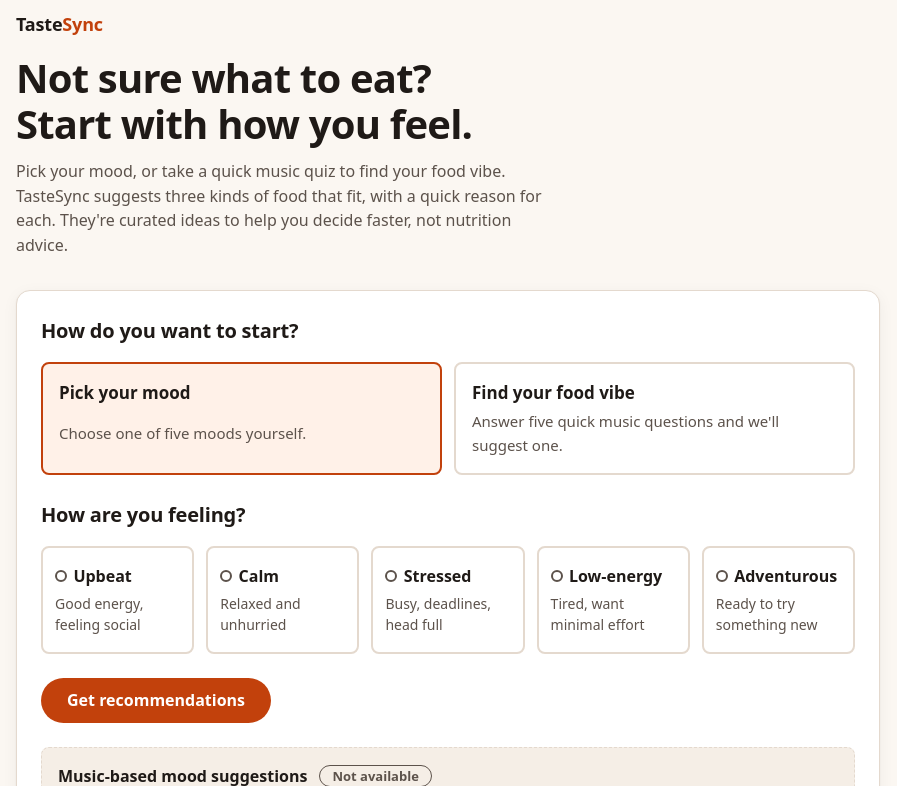
Test: Google restaurant search › handles location error code 1 and keeps city search working
Click the radio button labelled "Calm".
click(283, 600)  # box [206,546,359,654]
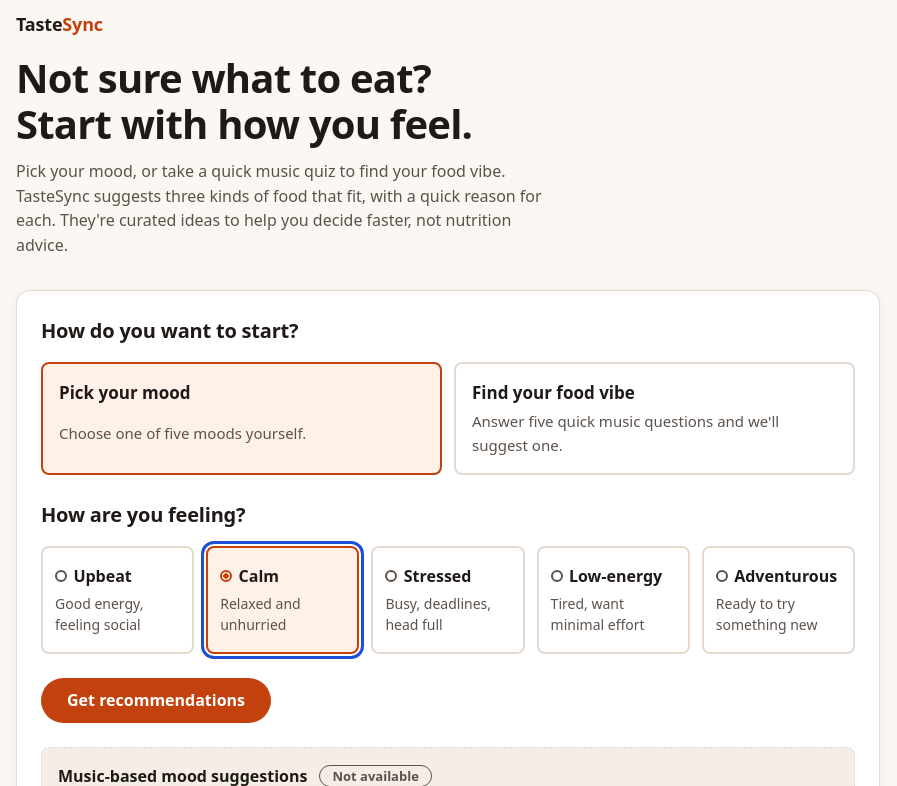
Click the button "Get recommendations".
click(156, 700)  # box [41,678,271,723]
(page scrolled)
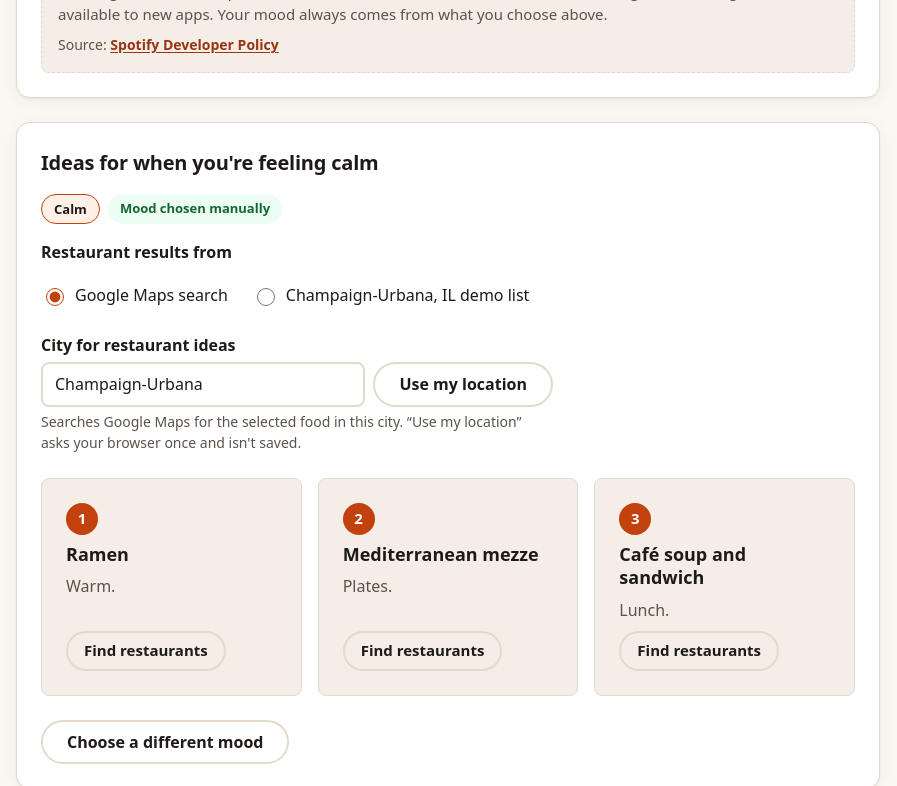
expect the heading "Ideas for when you're feeling calm" is shown: met, box [41,149,378,176]
Click the button "Use my location".
click(463, 384)  # box [373,362,553,407]
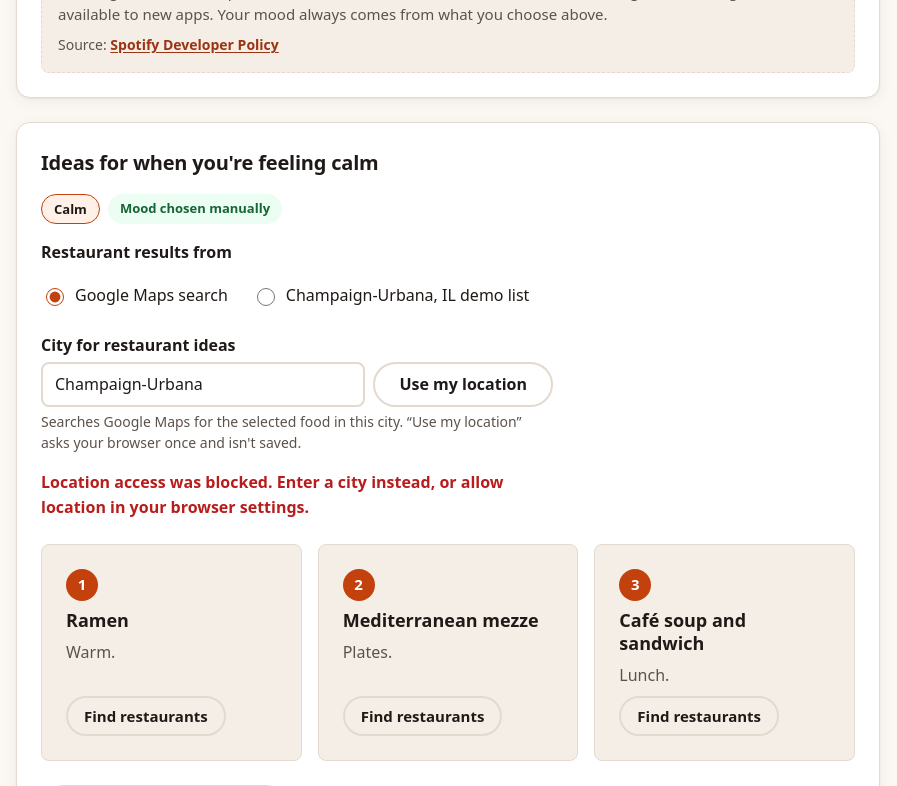
expect the 2nd message shows "Location access was blocked": met, box [41,471,503,518]
Click the button with aria-label "Find restaurants for Ramen".
click(146, 716)  # box [66,696,226,736]
(page scrolled)
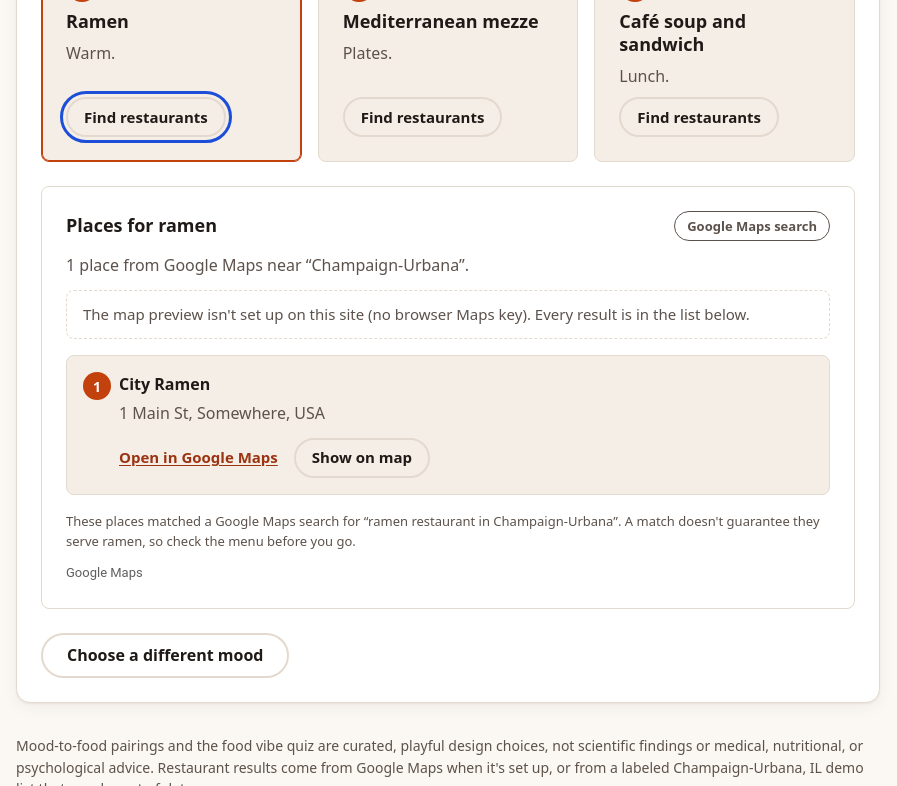
expect the text "City Ramen" is shown: met, box [119,373,210,395]
